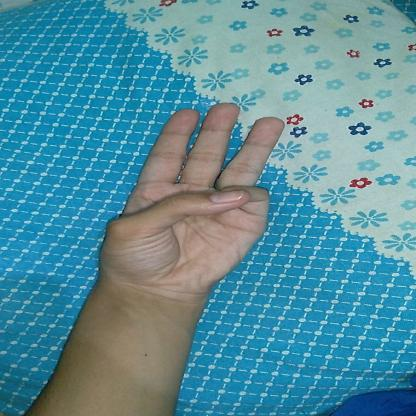hand: (20, 96, 291, 416)
